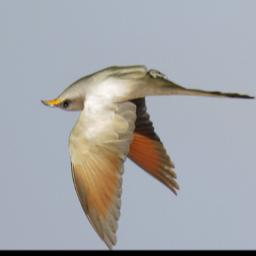Cuckoo: (41, 67, 255, 249)
